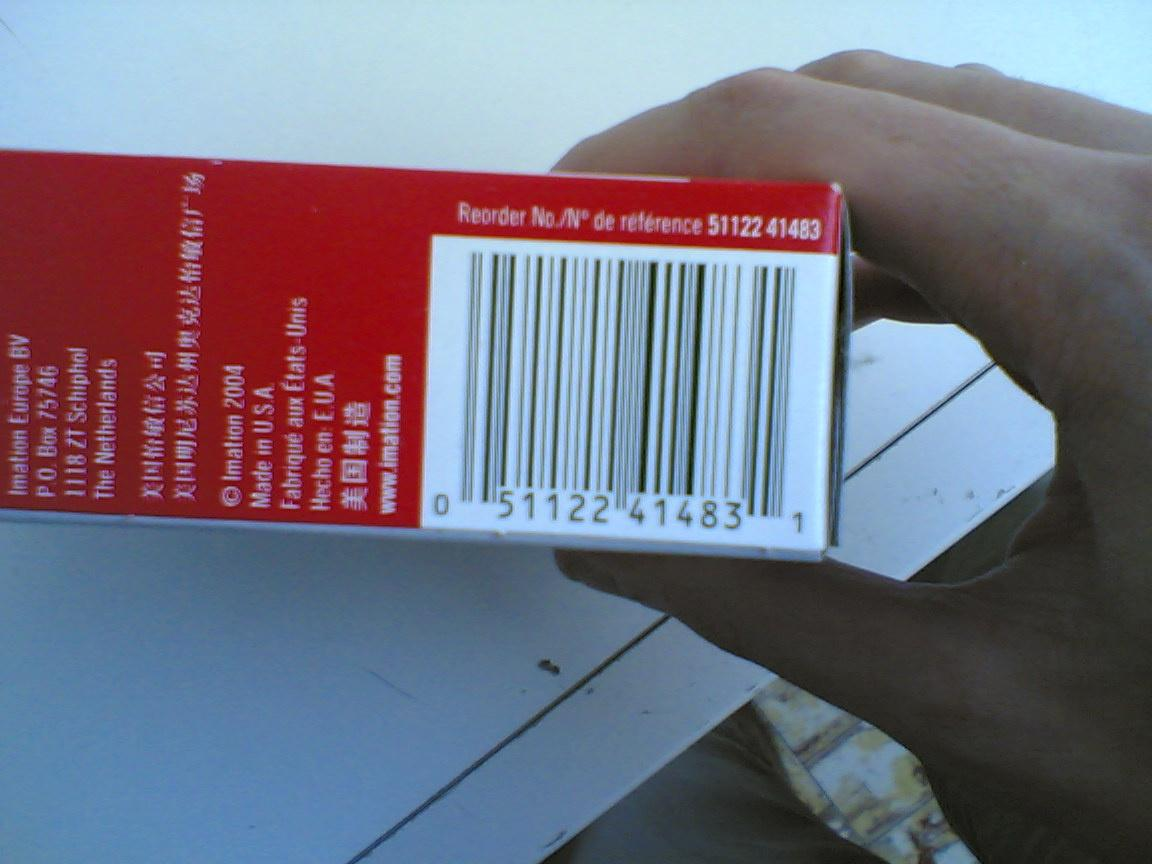Barcode: (421, 236, 841, 554)
